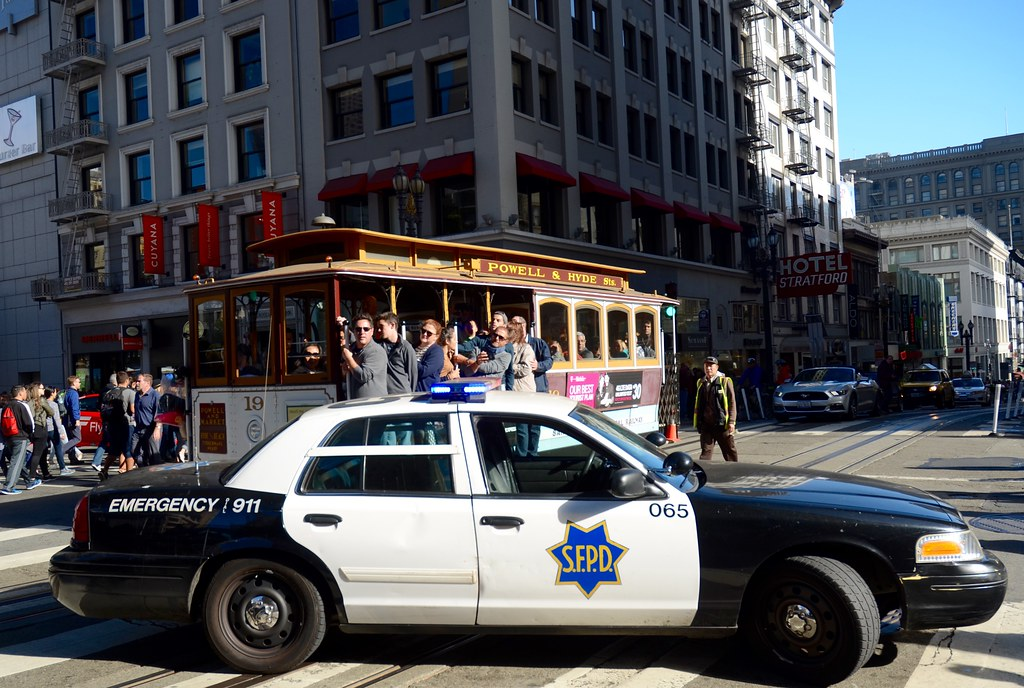Car: (54, 380, 1010, 675)
Person: (689, 354, 748, 460), (326, 314, 389, 403)
